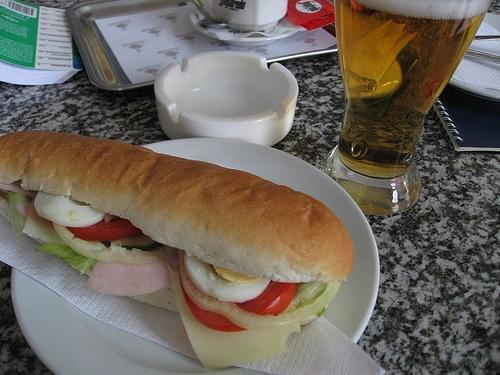onion: (178, 250, 342, 330), (53, 222, 175, 264), (86, 257, 172, 296), (108, 234, 157, 247)
tomato: (236, 280, 298, 315), (66, 219, 142, 241)
